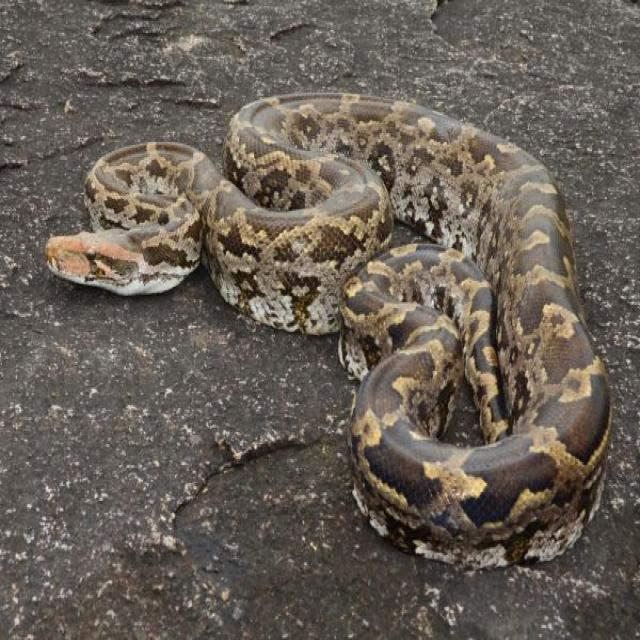Snake: (43, 88, 612, 571)
